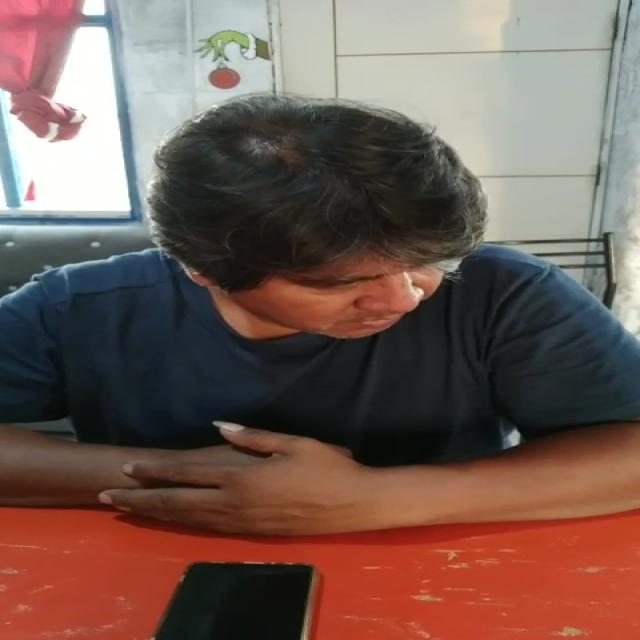9_cabeza_baja: (149, 95, 487, 336)
